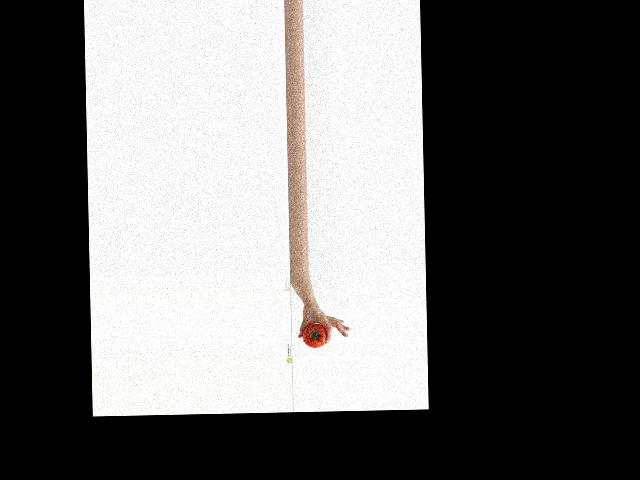tomato: (302, 323, 327, 348)
